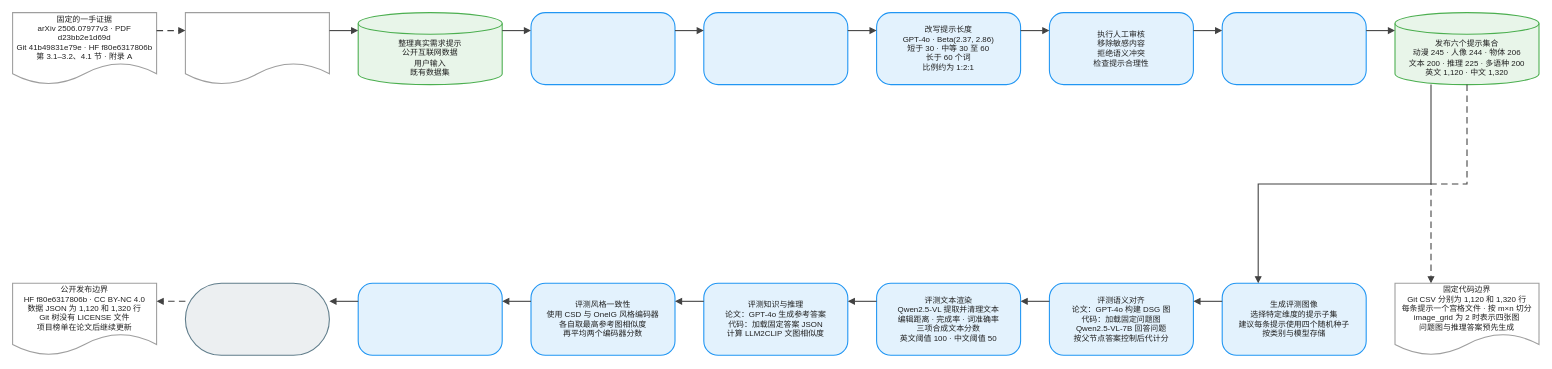
Some shapes in this 1552 by 369 pixel diagram are drawn without their labels. Each missing label, with the box of its shape:
去除语义重复 发现高度重叠提示 比较聚类中心嵌入 按余弦相似度过滤: (703, 12, 848, 85)
定义五个评测维度 提示图像对齐 · 文本渲染 知识推理 · 风格 跨提示集合的多样性: (185, 12, 330, 85)
平衡提示分布 聚类场景与语义 避免单一类别占优 维持五个维度比例: (530, 12, 675, 85)
报告五项核心指标 分别展示中英文结果 按类型与提示长度细分 逐提示子集比较模型: (185, 282, 330, 356)
构建中文发布集 翻译并核验 1,120 条提示 增加 200 条多语种提示 保留五个共享类别: (1221, 12, 1366, 85)
评测输出多样性 配对同一提示的生成结果 论文：一减 DreamSim 相似度 代码：DreamSim 距离后求平均: (357, 282, 502, 356)
